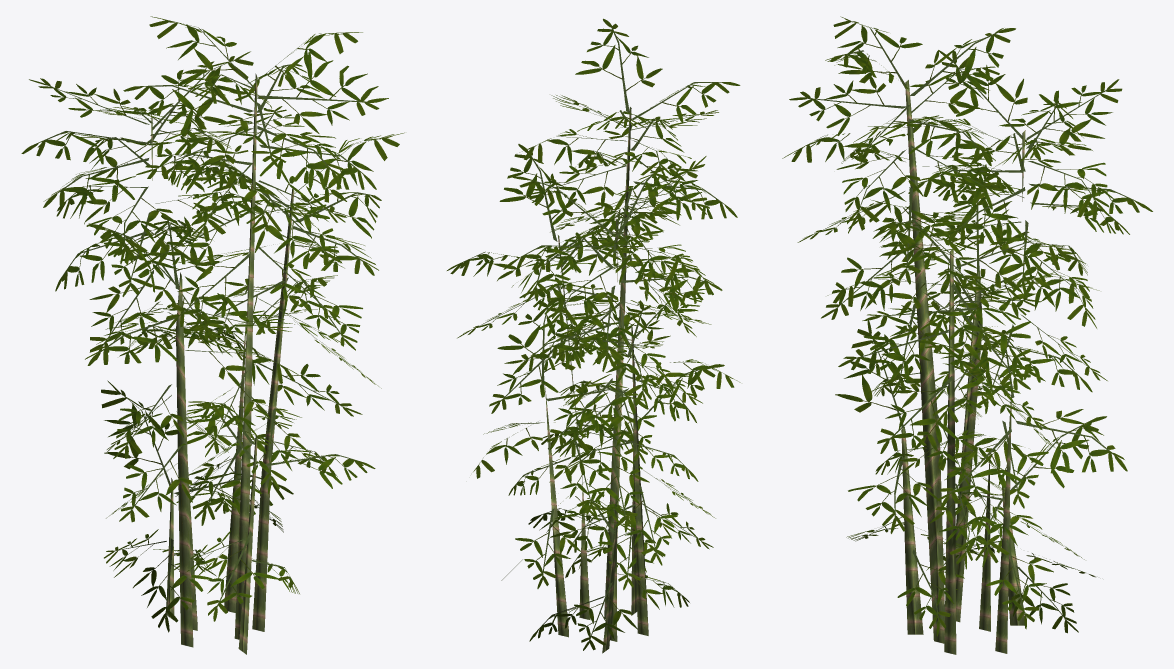
File: bamboo.glb
3 views of the same model, side by side, from view 1: azimuth 30°, elevation 25°; view 2: azimuth 150°, elevation 25°; view 3: azimuth 270°, elevation 25° (orthographic). The views are drawn at different scales.
Visible parts, largest first — view 1: Tree_1_Tree_1Mat_0, Tree_0_Tree_0Mat_0; view 2: Tree_1_Tree_1Mat_0, Tree_0_Tree_0Mat_0; view 3: Tree_1_Tree_1Mat_0, Tree_0_Tree_0Mat_0.
Part boxes in pixels (left/top/right/bottom): Tree_1_Tree_1Mat_0: left=21, top=16, right=404, bottom=632; Tree_0_Tree_0Mat_0: left=151, top=73, right=294, bottom=654; Tree_1_Tree_1Mat_0: left=447, top=18, right=740, bottom=650; Tree_0_Tree_0Mat_0: left=545, top=107, right=648, bottom=653; Tree_1_Tree_1Mat_0: left=782, top=16, right=1152, bottom=636; Tree_0_Tree_0Mat_0: left=901, top=80, right=1025, bottom=654.
Size of the model in its own units: 2.45 by 4.4 by 2.49.
Materials: 2 (2 with a texture image).
